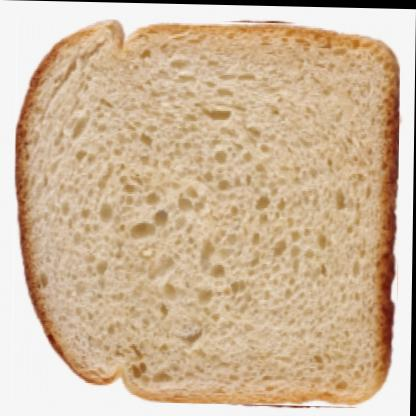bread: (13, 17, 402, 408)
